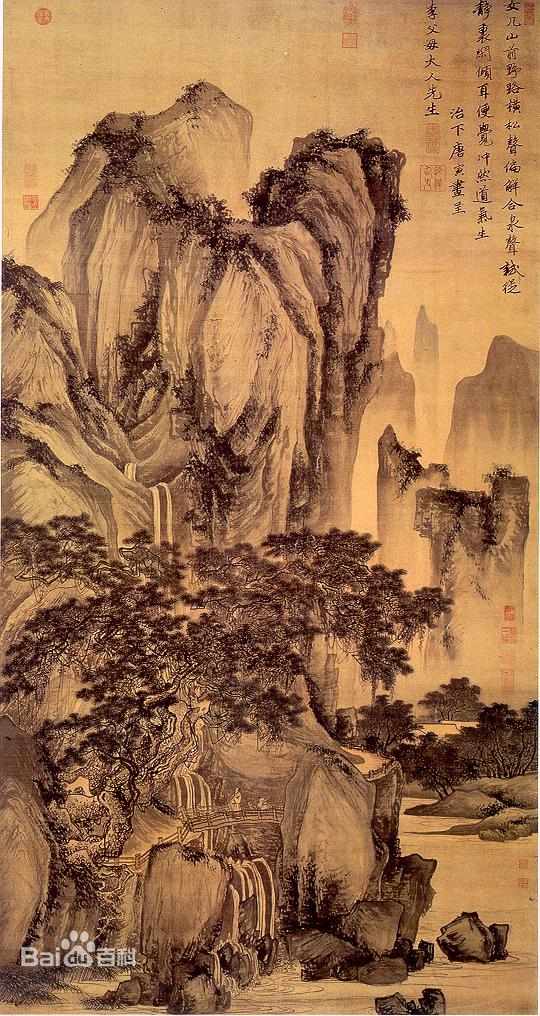bridge: (177, 812, 282, 834)
mountain: (365, 329, 540, 449), (377, 457, 526, 582), (10, 302, 94, 521), (172, 268, 300, 384), (67, 186, 144, 329), (318, 160, 371, 354), (227, 392, 295, 536), (2, 739, 46, 954), (160, 96, 244, 198), (146, 845, 214, 959), (311, 365, 355, 528), (309, 778, 377, 881), (353, 884, 401, 967), (26, 203, 67, 265), (394, 857, 438, 884)
tree: (52, 549, 420, 658), (24, 646, 309, 722), (406, 715, 540, 777), (87, 715, 142, 808), (362, 686, 483, 726), (154, 193, 243, 236), (60, 819, 110, 894), (292, 868, 351, 927), (49, 727, 99, 794), (95, 139, 148, 183), (253, 181, 300, 220), (4, 267, 57, 297)
waterfall: (243, 874, 279, 938), (173, 739, 203, 813), (148, 480, 170, 543), (128, 465, 139, 480)
